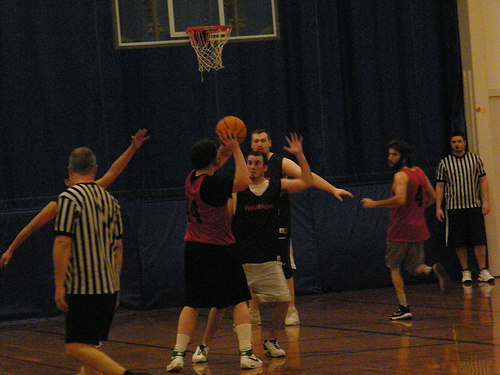basketball: (216, 115, 246, 143)
